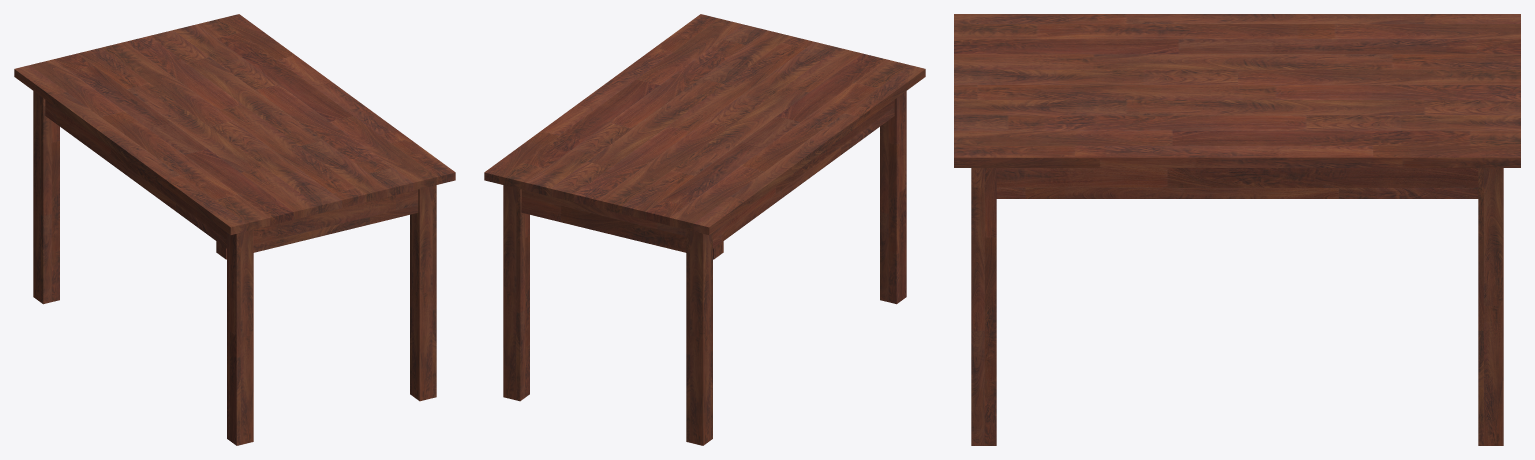
File: Mesa.obj
3 views of the same model, side by side, from view 1: azimuth 30°, elevation 25°; view 2: azimuth 150°, elevation 25°; view 3: azimuth 270°, elevation 25° (orthographic). The views are drawn at different scales.
Parts seen in each view (by area): view 1: deskWorn_OBJ:deskWorn; view 2: deskWorn_OBJ:deskWorn; view 3: deskWorn_OBJ:deskWorn.
Boxes of the visible parts, x1,y1,x2,y2 form: deskWorn_OBJ:deskWorn: [14, 14, 455, 445]; deskWorn_OBJ:deskWorn: [484, 14, 925, 445]; deskWorn_OBJ:deskWorn: [954, 14, 1520, 445].
Bounding box in the file's own units: 3.64 × 3.5 × 6.07.
Materials: 1 (1 with a texture image).
